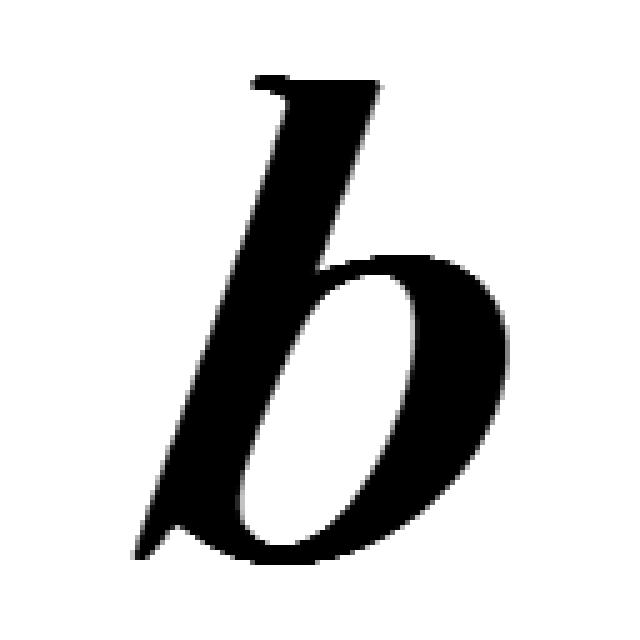B: (135, 75, 505, 570)
